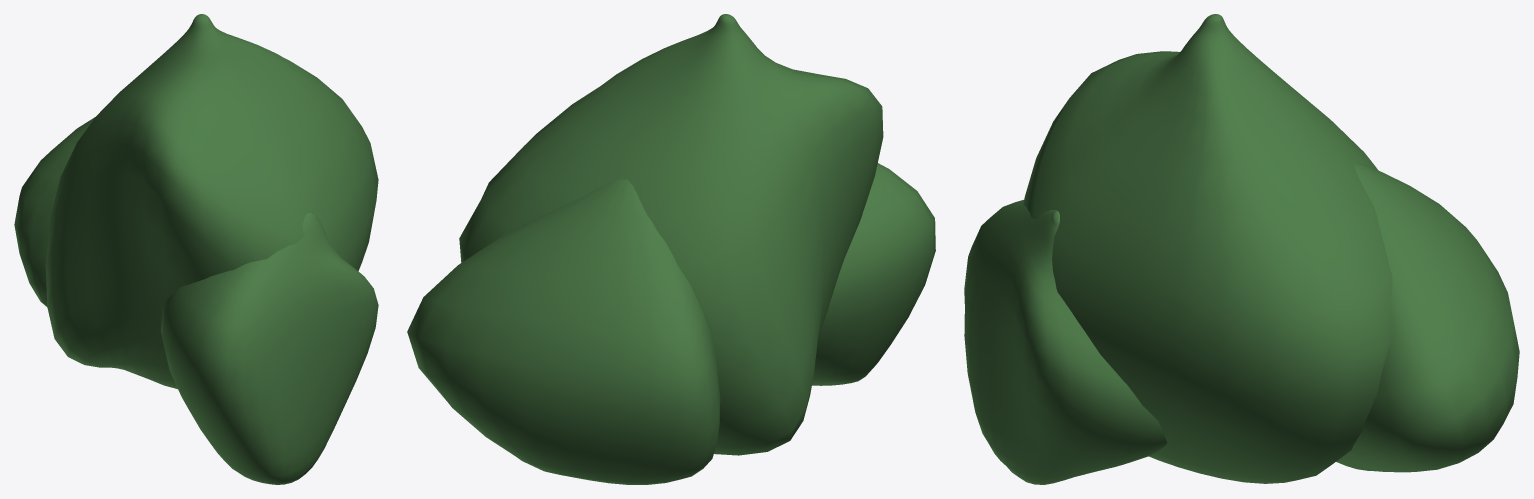
Rendered from Bush_thing_3.fbx.
3 renders of one model, left to right at view 1: azimuth 30°, elevation 25°; view 2: azimuth 150°, elevation 25°; view 3: azimuth 270°, elevation 25°, orthographic. The views are drawn at different scales.
Parts seen in each view (by area): view 1: pCube8; view 2: pCube8; view 3: pCube8.
Boxes of the visible parts, <box> form: pCube8: <box>14,14,378,484</box>; pCube8: <box>407,14,935,484</box>; pCube8: <box>964,14,1519,484</box>.
Size of the model in its own units: 429 by 541 by 594.
